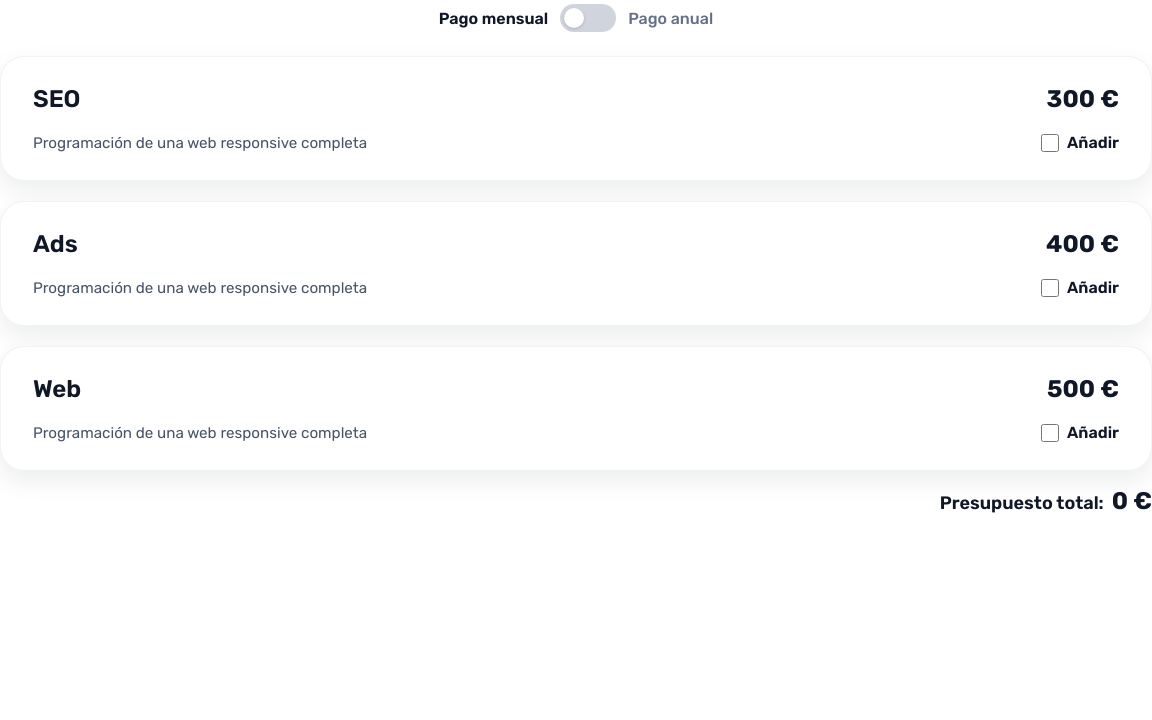
Test: select services updates total and shows configurator
Click the checkbox labelled "Añadir" below "300 €".
click(1050, 142)  # box [1041,134,1059,152]
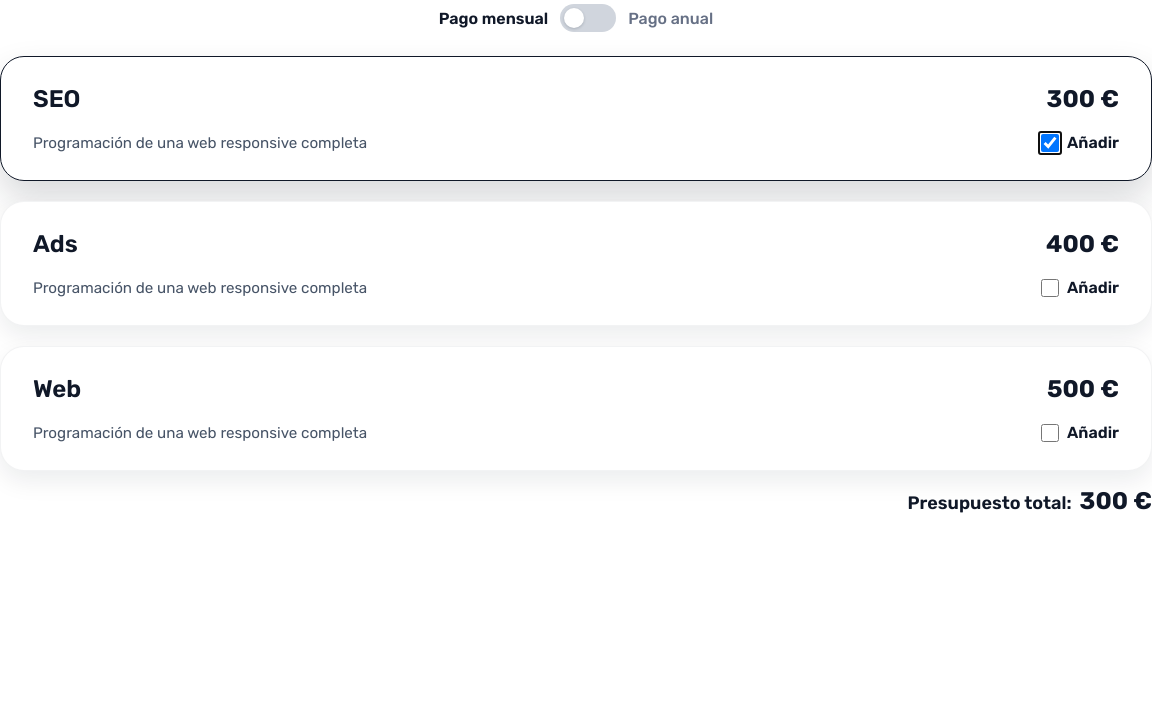
Click the checkbox labelled "Añadir" below "400 €".
click(1050, 288)  # box [1041,278,1059,296]
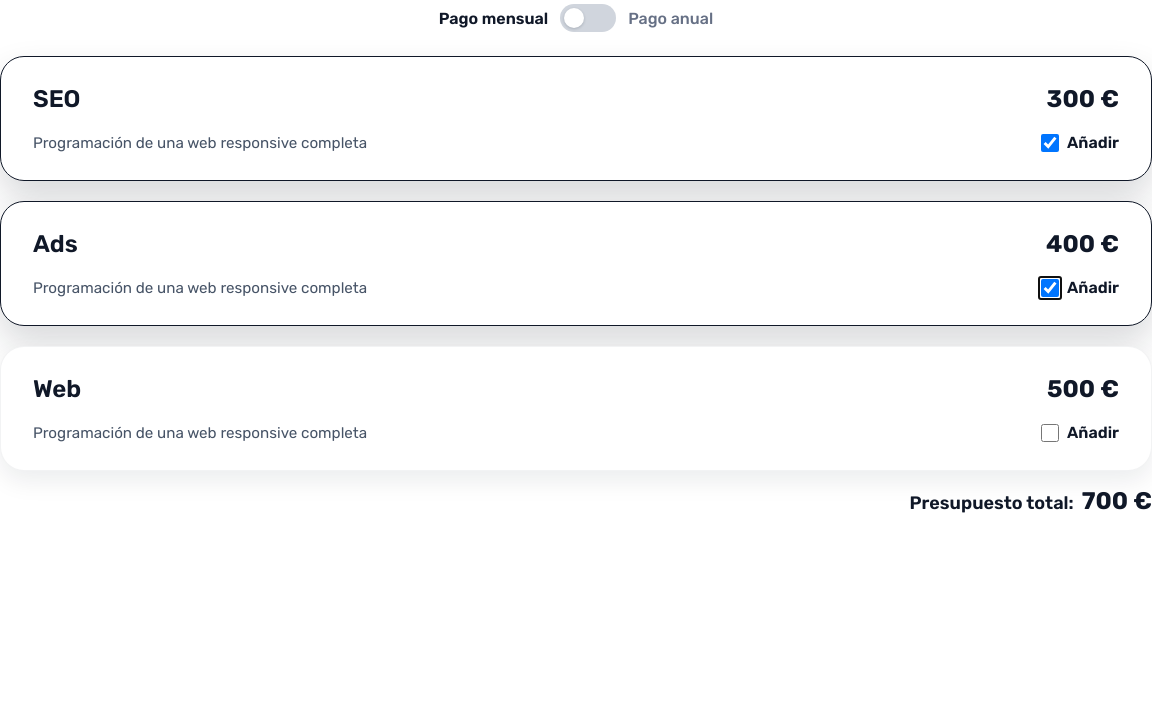
Click the checkbox labelled "Añadir" below "500 €".
click(1050, 432)  # box [1041,424,1059,442]
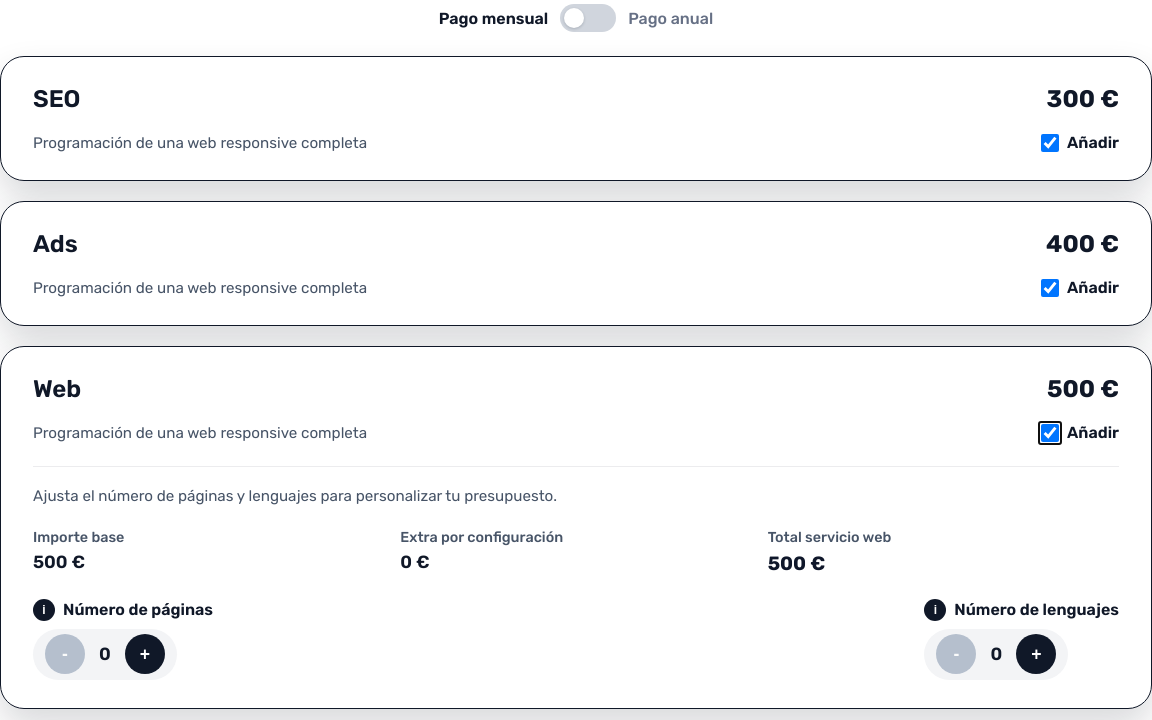
expect the text "Total servicio web" is shown: met, box [768,529,891,546]
